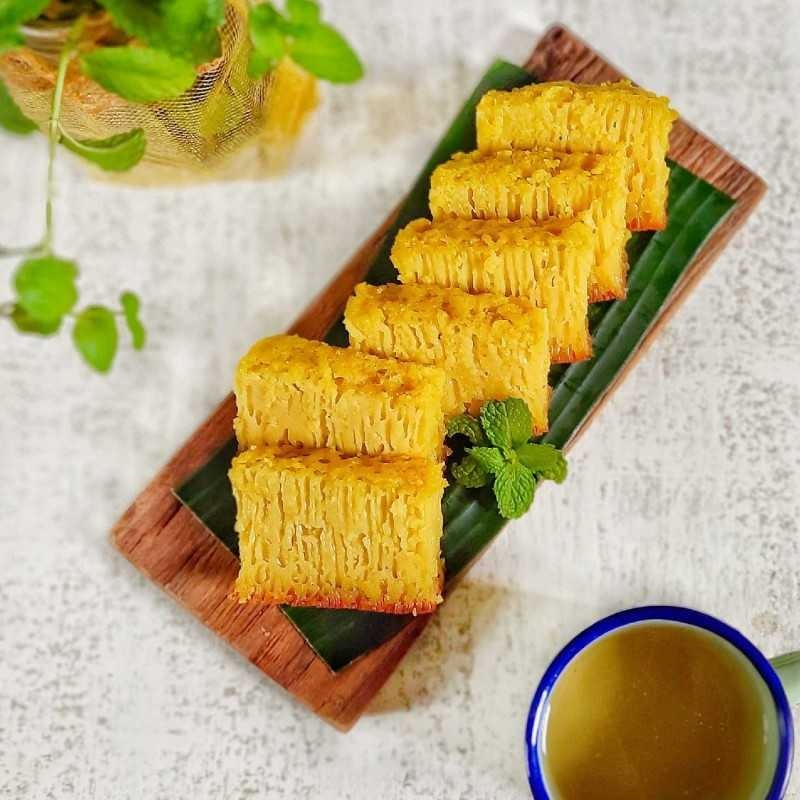bika_ambon: (236, 442, 451, 620)
